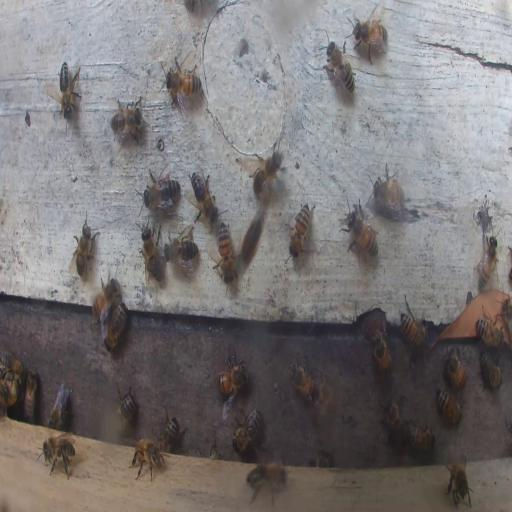nonpollenbee: (342, 196, 378, 264), (350, 5, 388, 63), (71, 208, 101, 281), (324, 35, 356, 97), (250, 142, 284, 198), (245, 459, 288, 501), (372, 162, 405, 215), (143, 167, 182, 211), (41, 433, 77, 479), (216, 349, 248, 400), (140, 220, 164, 284), (57, 60, 81, 120), (129, 438, 164, 479), (189, 169, 216, 222), (400, 300, 428, 351), (288, 201, 313, 258), (109, 100, 142, 142), (232, 406, 260, 453), (215, 221, 236, 283), (161, 68, 203, 98), (92, 276, 120, 321), (166, 231, 199, 269), (446, 455, 470, 507), (475, 236, 498, 289), (380, 394, 405, 441), (289, 357, 315, 402), (104, 299, 126, 349), (312, 377, 333, 427), (436, 387, 463, 425), (48, 382, 70, 428), (406, 421, 437, 453), (444, 349, 467, 390), (371, 330, 392, 374), (475, 315, 503, 348), (158, 414, 180, 454), (115, 384, 137, 424), (480, 352, 502, 388), (23, 369, 38, 421), (2, 353, 23, 381), (2, 375, 16, 407), (502, 295, 512, 337), (316, 448, 329, 468)
pollenbee: (236, 212, 265, 272)
